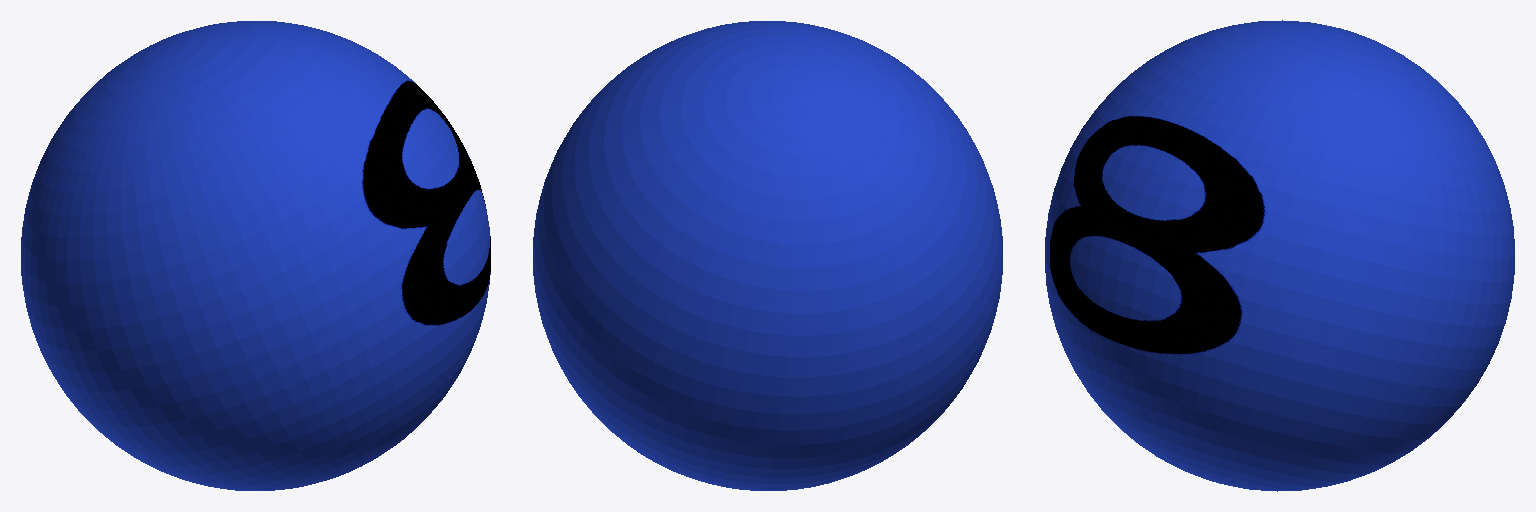
3 renders of one model, left to right at view 1: azimuth 30°, elevation 25°; view 2: azimuth 150°, elevation 25°; view 3: azimuth 270°, elevation 25°, orthographic.
Parts seen in each view (by area): view 1: Sphere; view 2: Sphere; view 3: Sphere.
Boxes of the visible parts, x1,y1,x2,y2 form: Sphere: [21, 21, 490, 490]; Sphere: [533, 21, 1002, 490]; Sphere: [1045, 20, 1514, 491].
Bounding box in the file's own units: 2 × 2 × 2.
1 materials, 1 textured.